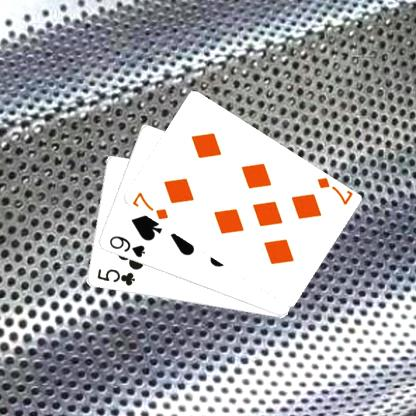5C: (94, 266, 136, 288)
7D: (130, 189, 170, 221), (314, 176, 353, 206)
9S: (106, 233, 146, 259)
